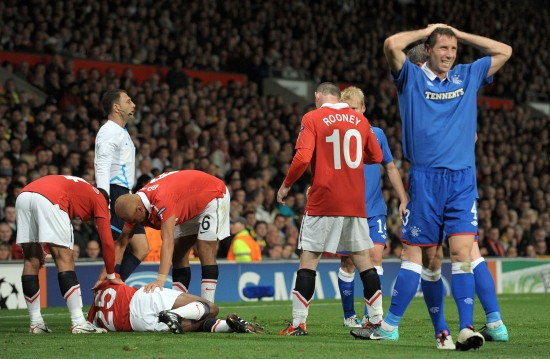10+: (3, 1, 550, 349)
down: (79, 262, 271, 340)
